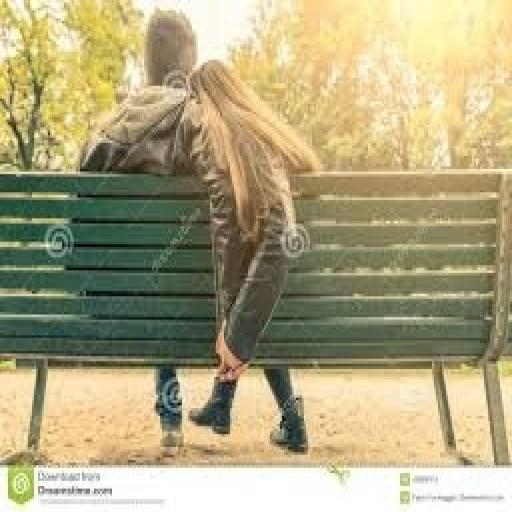sitting: (72, 5, 320, 460)
